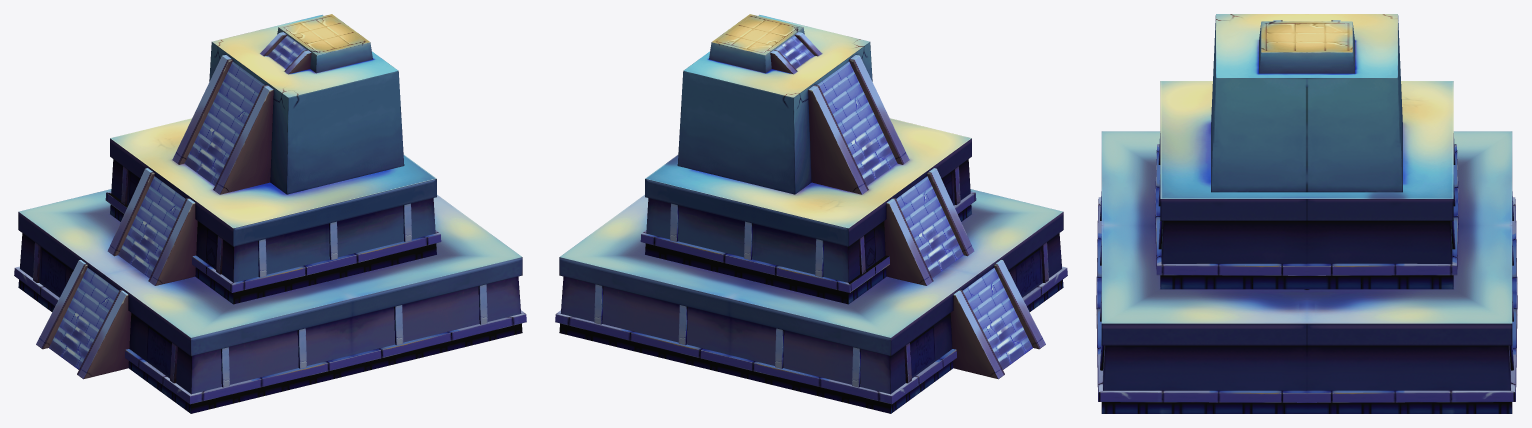
The model's file is yechajitan.FBX.
The picture shows the model from 3 angles, left to right: view 1: azimuth 30°, elevation 25°; view 2: azimuth 150°, elevation 25°; view 3: azimuth 270°, elevation 25°; orthographic projection. The views are drawn at different scales.
Visible parts, largest first — view 1: yechajitan; view 2: yechajitan; view 3: yechajitan.
Boxes of the visible parts, x1,y1,x2,y2 form: yechajitan: (14,14,526,413); yechajitan: (555,14,1067,413); yechajitan: (1096,14,1517,413).
Size of the model in its own units: 45.82 by 30.25 by 36.94.
